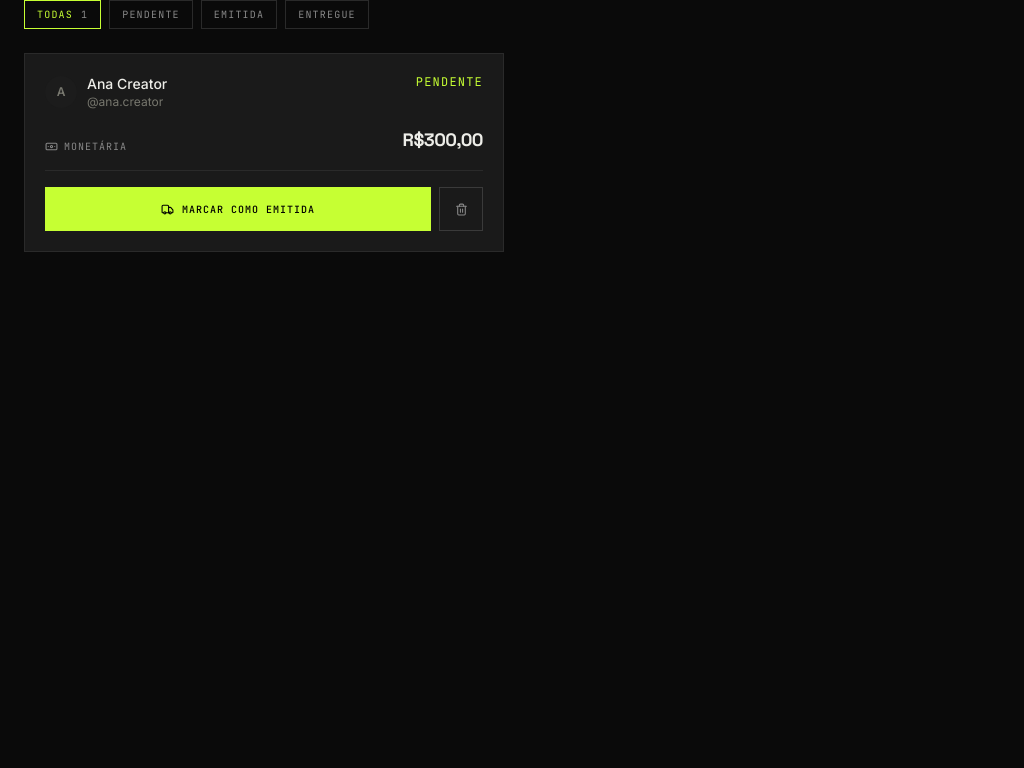
Test: CampaignRewardsTab › remover recompensa › mantém o modal aberto e explica quando a remoção falha
What coordinates should you click on to do the following:
click the button named "remover recompensa"
I would click on:
 (461, 209)
Its box is [439,187,483,231].
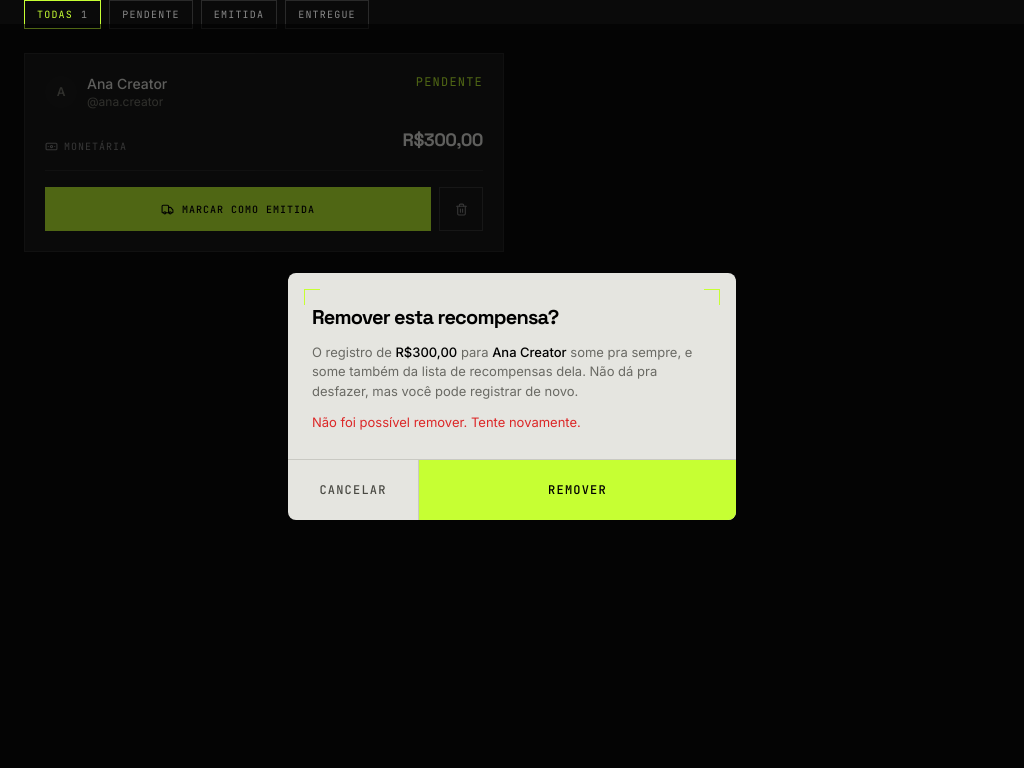
expect the text "Não foi possível remover. Tente novamente." is shown: met, box [312,414,581,430]
expect the button "Remover" is enabled: met, box [418,460,736,520]
